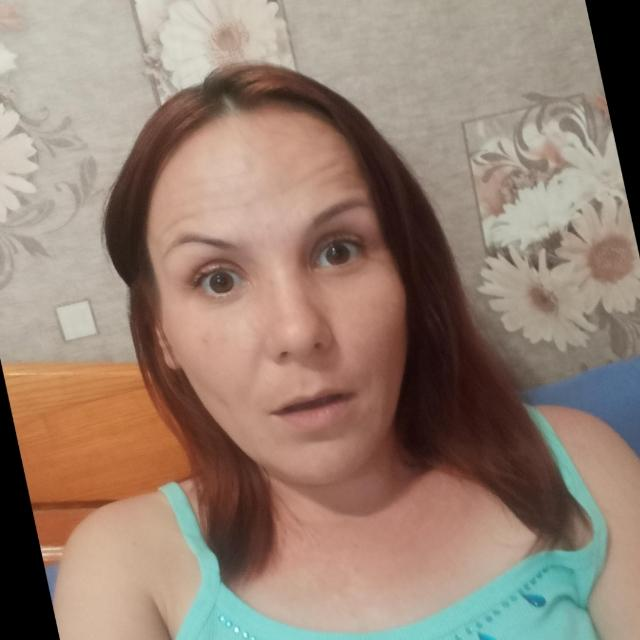Surprised: (100, 90, 438, 540)
